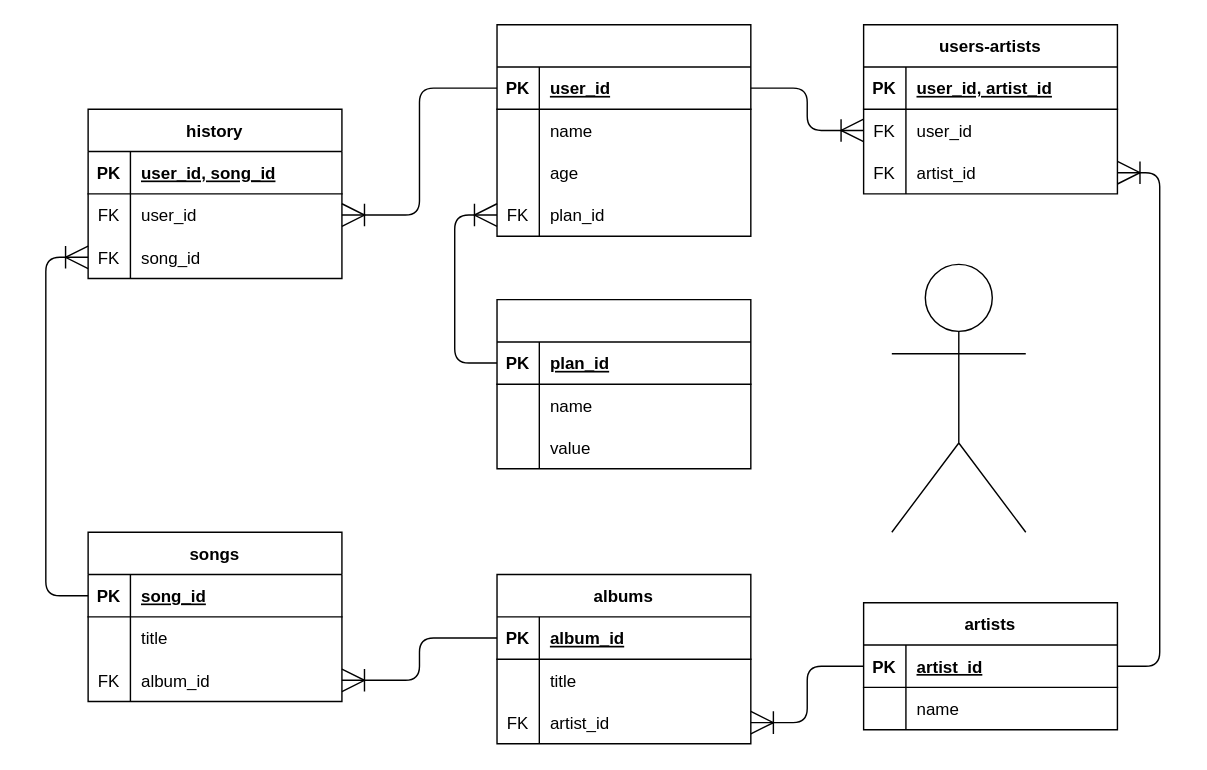
Some shapes in this 1207 by 770 pixel diagram are drawn without their labels. Each missing label, with the box of its shape:
Actor: (890, 263, 1026, 532)
plans: (496, 298, 751, 469)
users: (496, 23, 751, 236)
